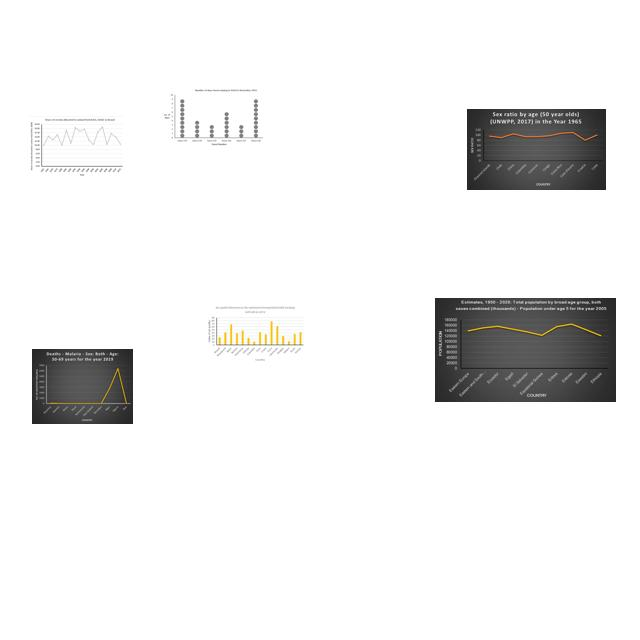Graph: (435, 298, 616, 402), (467, 109, 606, 190), (32, 349, 133, 424), (163, 88, 263, 147), (205, 304, 305, 363), (29, 116, 124, 177)
